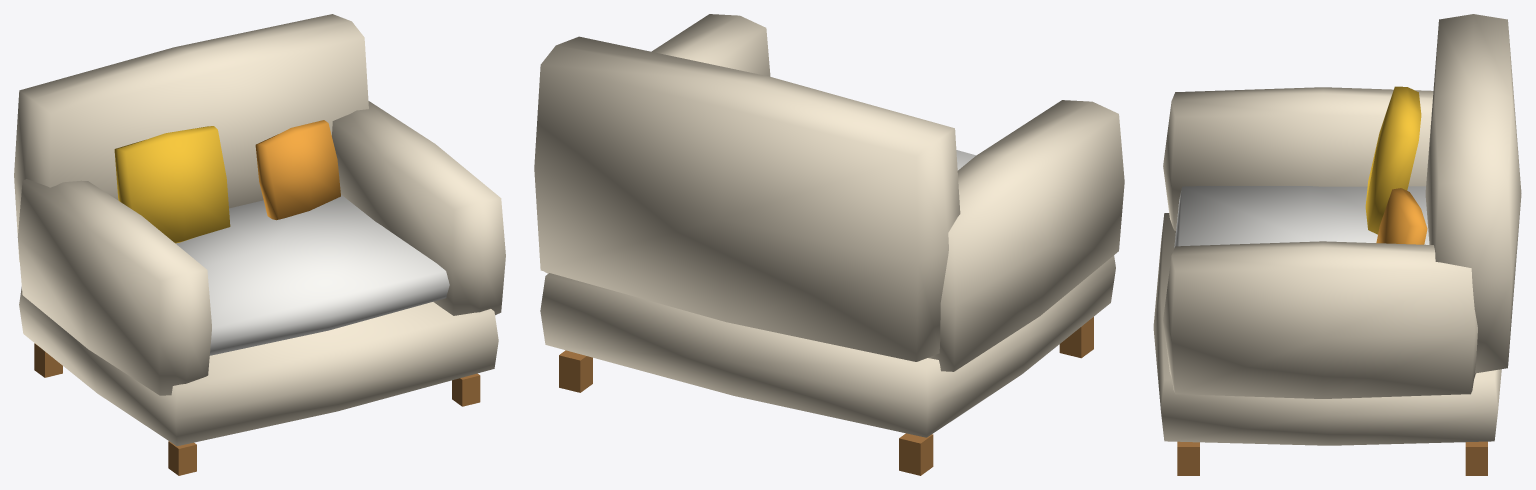
The model's file is armchair.glb.
3 views of the same model, side by side, from view 1: azimuth 30°, elevation 25°; view 2: azimuth 150°, elevation 25°; view 3: azimuth 270°, elevation 25° (orthographic). The views are drawn at different scales.
Visible parts, largest first — view 1: root; view 2: root; view 3: root.
Boxes of the visible parts, left/top/right/bottom form: root: left=14, top=14, right=505, bottom=475; root: left=534, top=14, right=1124, bottom=475; root: left=1153, top=14, right=1521, bottom=475.
Bounding box in the file's own units: 1.4 × 1.06 × 1.15.
